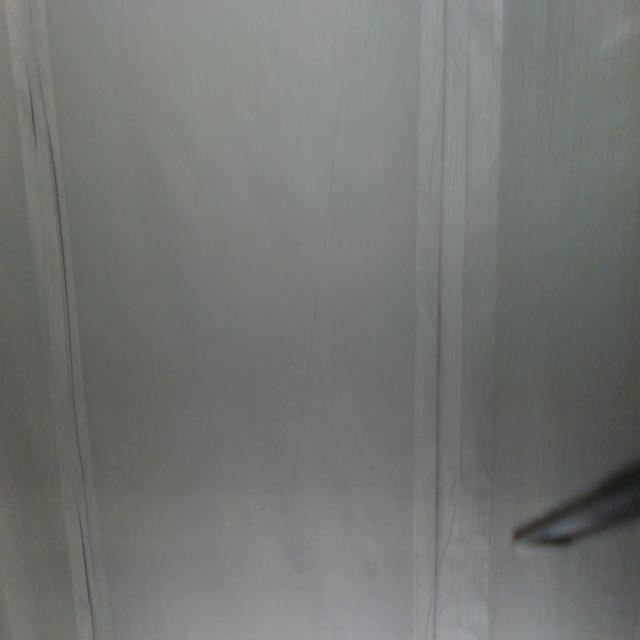crease: (8, 0, 102, 639), (415, 0, 473, 637)
